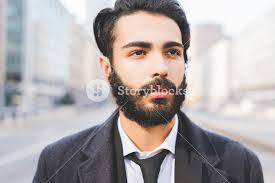white_male: (107, 29, 190, 121)
